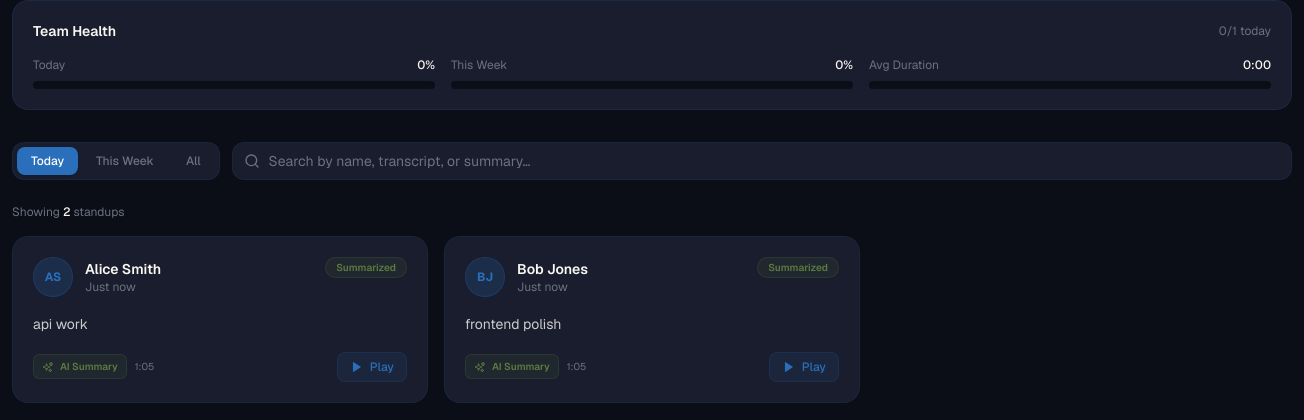
Scenario: StandupDashboard › filters by search query
The image size is (1304, 420).
Type "alice" into the field with placeholder "Search by name, transcript, or summary…".
click(762, 161); type("alice")  # box [232,142,1292,180]
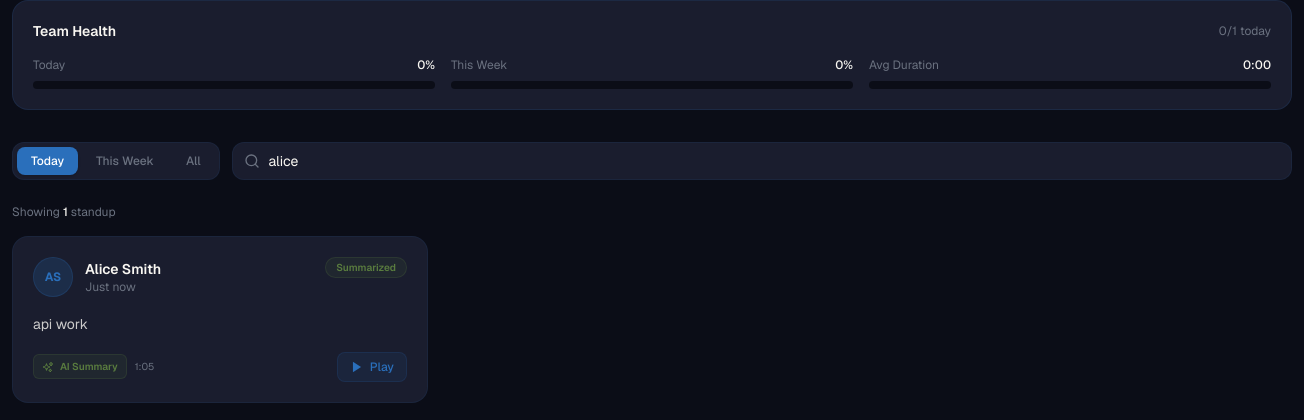
Check: the text "Alice Smith" is shown, box [85,259,161,279]
Check: the text "Bob Jones" is gone
